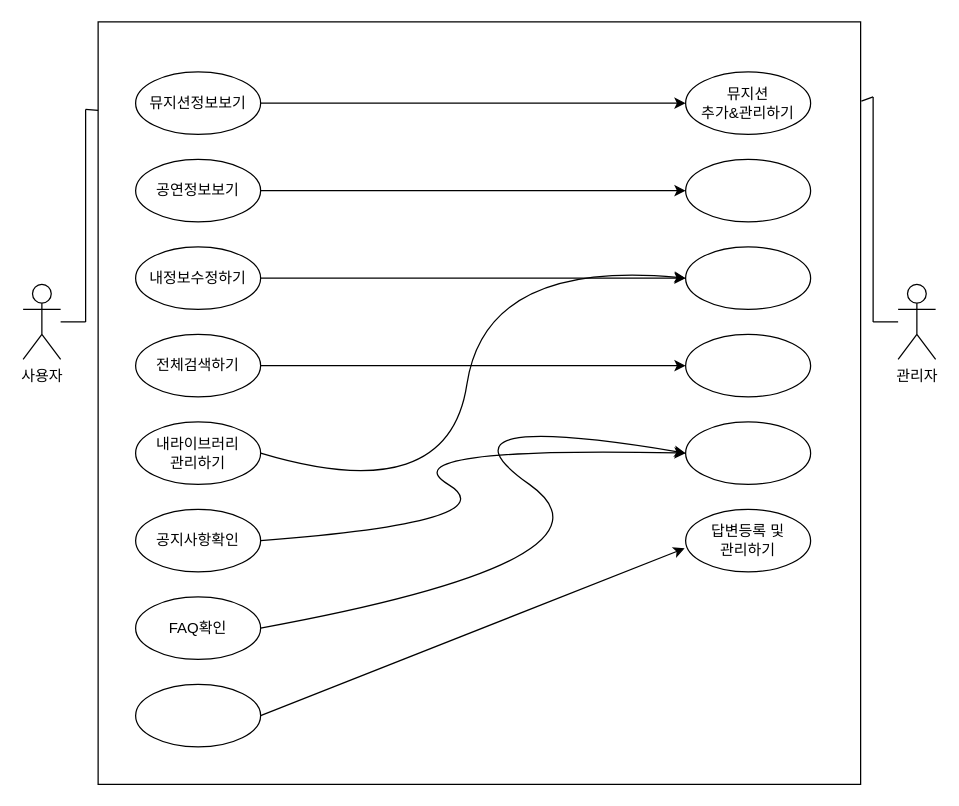
Some shapes in this 959 by 806 pixel diagram are drawn without their labels. The centre of each missing label's shape, as x and y in pixels:
검색데이터 관리하기: point (747, 365)
게시판 관리하기: point (747, 452)
공연 추가&관리하기: point (747, 190)
질문등록하기: point (197, 715)
회원 관리하기: point (747, 277)
